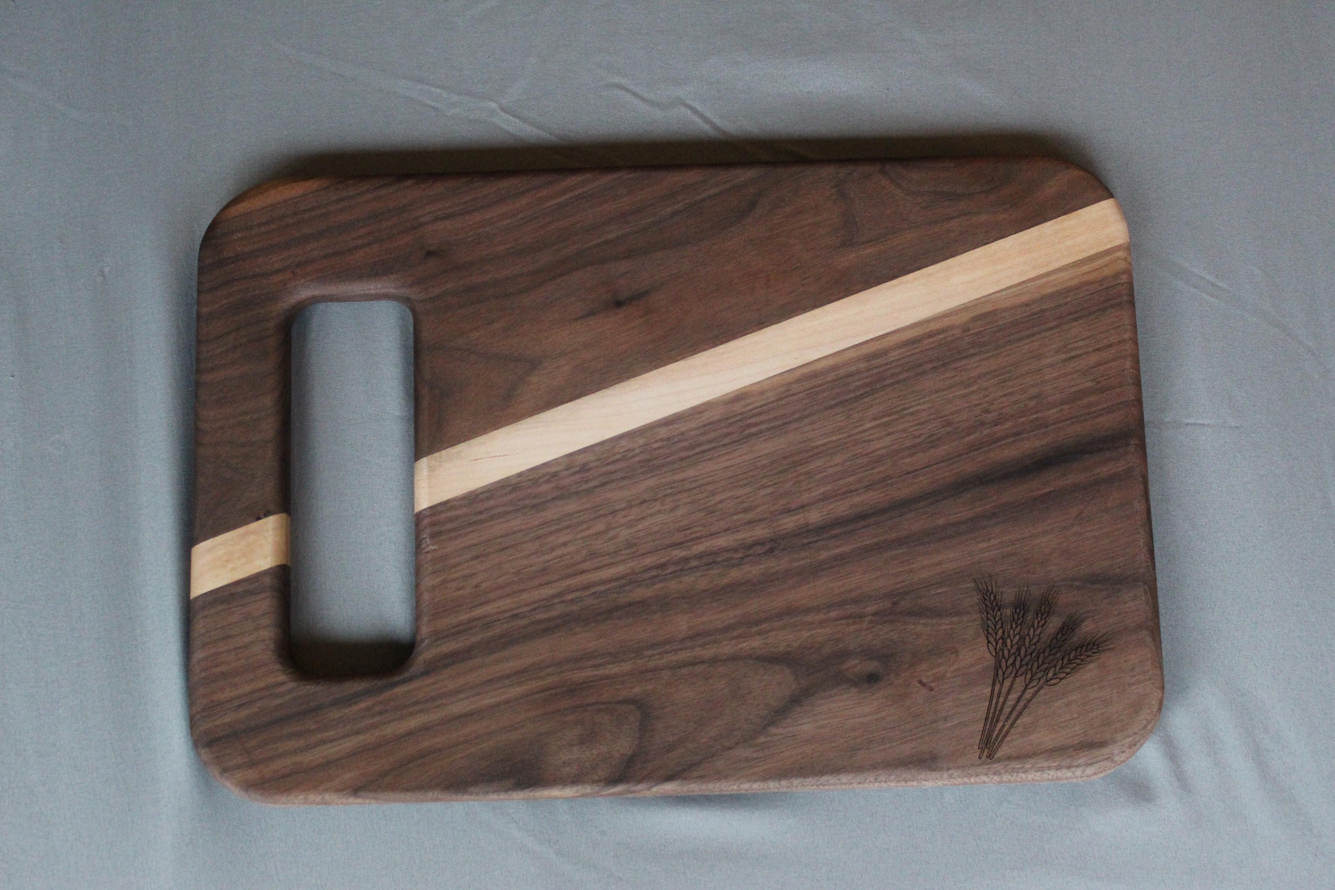gloved_hand: (166, 136, 1186, 813)
